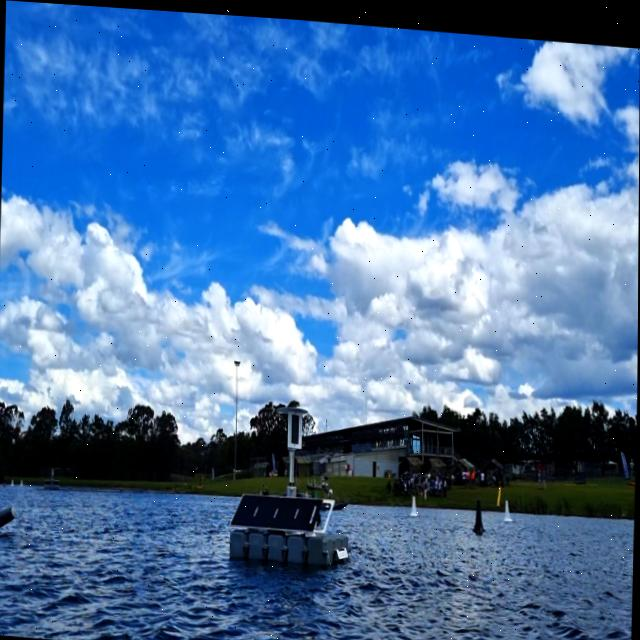led: (289, 407, 302, 443)
